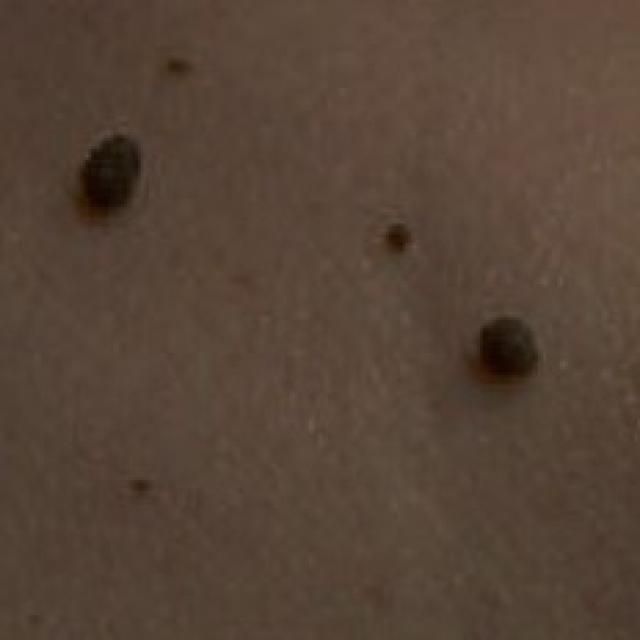wart: (430, 290, 588, 414), (44, 116, 168, 234), (356, 196, 430, 270)
